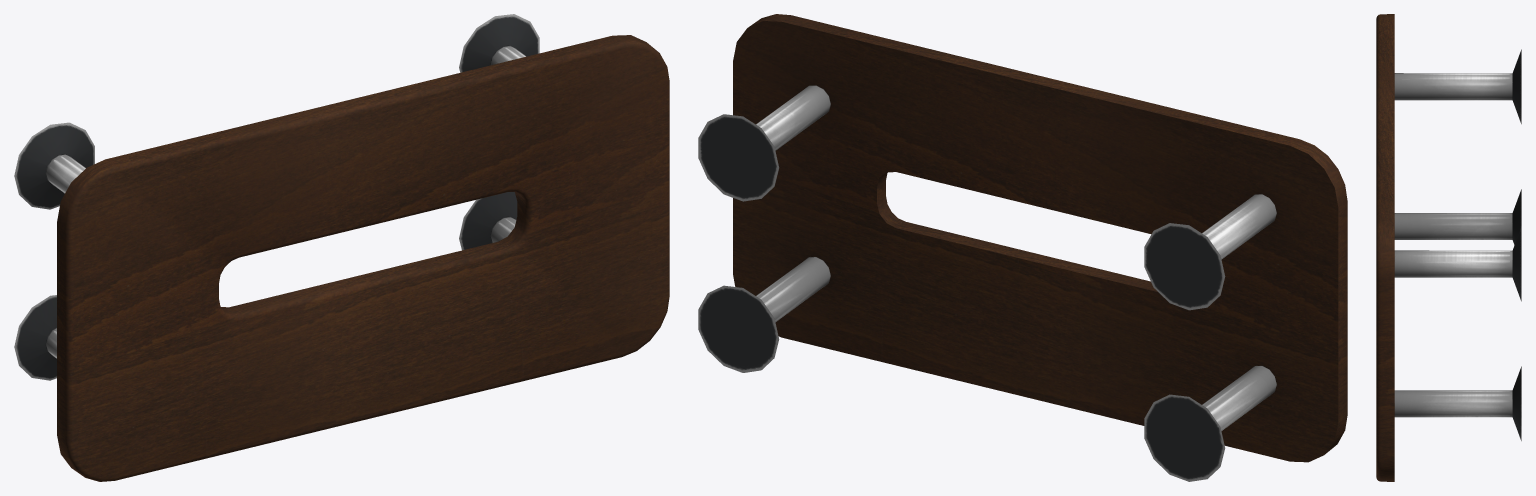
File: stol.obj
The picture shows the model from 3 angles, left to right: view 1: azimuth 30°, elevation 25°; view 2: azimuth 150°, elevation 25°; view 3: azimuth 270°, elevation 25°; orthographic projection. The views are drawn at different scales.
Visible parts, largest first — view 1: ________0; view 2: ________0; view 3: ________0.
Part boxes in pixels (<box>): ________0: <box>14,14,669,481</box>; ________0: <box>698,14,1347,481</box>; ________0: <box>1376,14,1521,481</box>.
Size of the model in its own units: 0.1254 by 0.0625 by 0.032.
1 material, 1 textured.
